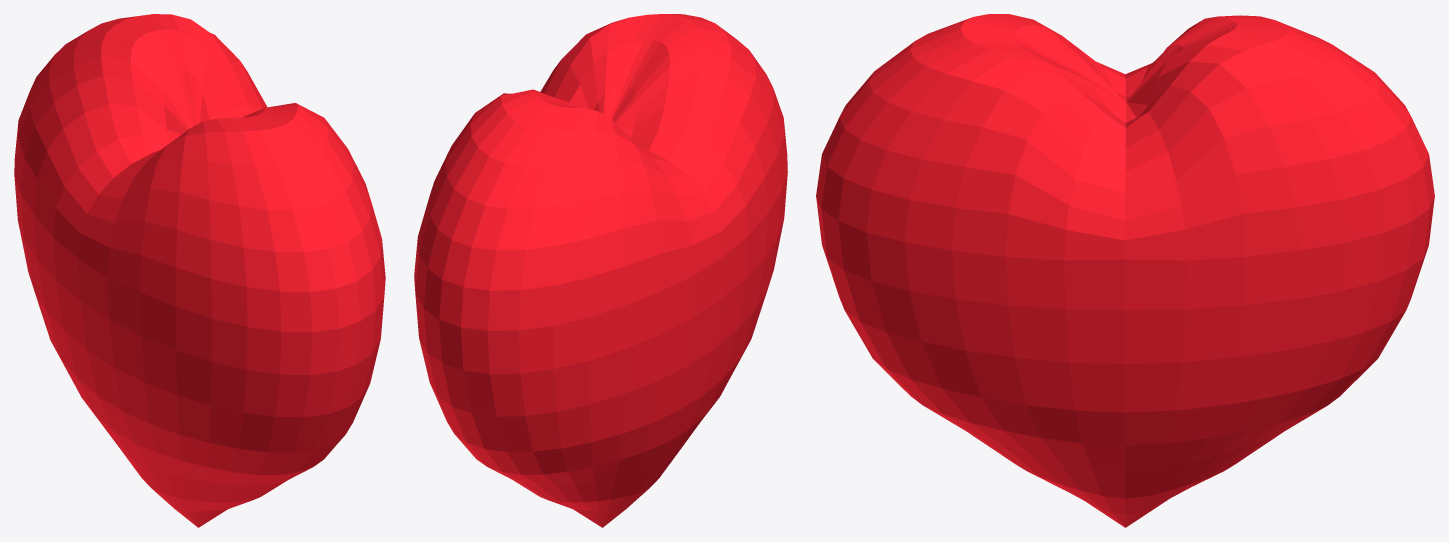
File: HeartModel.fbx
The picture shows the model from 3 angles, left to right: view 1: azimuth 30°, elevation 25°; view 2: azimuth 150°, elevation 25°; view 3: azimuth 270°, elevation 25°; orthographic projection. The views are drawn at different scales.
Visible parts, largest first — view 1: Sphere; view 2: Sphere; view 3: Sphere.
Part boxes in pixels (<box>): Sphere: <box>14,14,385,527</box>; Sphere: <box>414,14,787,527</box>; Sphere: <box>816,14,1434,527</box>.
Size of the model in its own units: 98.84 by 178 by 198.
